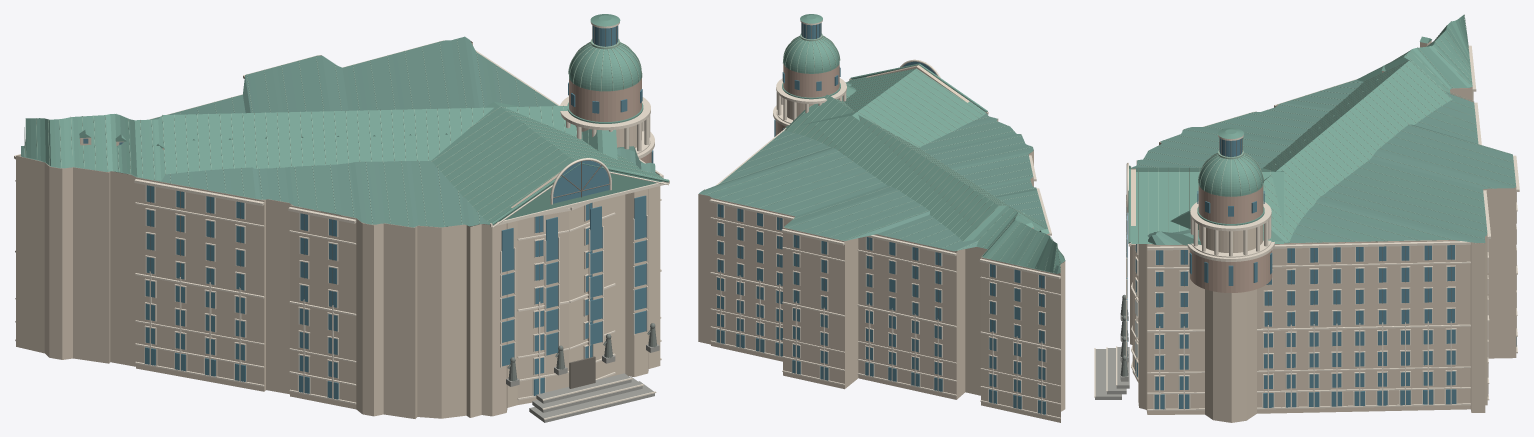
The model's file is mannerheimintie-5.glb.
The picture shows the model from 3 angles, left to right: view 1: azimuth 30°, elevation 25°; view 2: azimuth 150°, elevation 25°; view 3: azimuth 270°, elevation 25°; orthographic projection. The views are drawn at different scales.
Parts seen in each view (by area): view 1: Building envelope | Helsinki WFS footprint, Roof | low pitched copper fill beneath raised wings, Roof | long Mannerheimintie wing | fitted gable, Windows | deep blue-grey glass, Cornices and columns | pale limestone, Roof | Ylioppilasaukio wing | perpendicular gable, Plinth and steps | grey granite, Cupola | documented 4.3 m hemisphere, Cupola | neck, Gable | arched fanlight glass, Window framing | dark bronze, Cupola colonnade | capital ring; view 2: Building envelope | Helsinki WFS footprint, Roof | low pitched copper fill beneath raised wings, Roof | long Mannerheimintie wing | fitted gable, Cornices and columns | pale limestone, Windows | deep blue-grey glass, Roof | Ylioppilasaukio wing | perpendicular gable, Cupola | documented 4.3 m hemisphere, Cupola | neck, Cupola colonnade | capital ring, Window framing | dark bronze, Square elevation | broad cream gable; view 3: Building envelope | Helsinki WFS footprint, Roof | low pitched copper fill beneath raised wings, Roof | long Mannerheimintie wing | fitted gable, Cornices and columns | pale limestone, Windows | deep blue-grey glass, Roof | Ylioppilasaukio wing | perpendicular gable, Corner tower | projecting drum, Cupola | documented 4.3 m hemisphere, Cupola | neck, Plinth and steps | grey granite, Cupola | drum behind columns, Cupola colonnade | capital ring (+2 smaller).
Boxes of the visible parts, x1,y1,x2,y2 form: Building envelope | Helsinki WFS footprint: [16, 41, 660, 418]; Roof | low pitched copper fill beneath raised wings: [21, 36, 655, 227]; Roof | long Mannerheimintie wing | fitted gable: [25, 106, 617, 180]; Windows | deep blue-grey glass: [83, 82, 653, 399]; Cornices and columns | pale limestone: [14, 40, 669, 419]; Roof | Ylioppilasaukio wing | perpendicular gable: [431, 101, 663, 223]; Plinth and steps | grey granite: [506, 344, 659, 422]; Cupola | documented 4.3 m hemisphere: [569, 43, 641, 91]; Cupola | neck: [569, 78, 641, 121]; Gable | arched fanlight glass: [553, 160, 609, 203]; Window framing | dark bronze: [150, 186, 595, 388]; Cupola colonnade | capital ring: [560, 96, 650, 130]; Building envelope | Helsinki WFS footprint: [698, 119, 1065, 422]; Roof | low pitched copper fill beneath raised wings: [699, 82, 1064, 273]; Roof | long Mannerheimintie wing | fitted gable: [785, 84, 1064, 272]; Cornices and columns | pale limestone: [709, 78, 1060, 418]; Windows | deep blue-grey glass: [716, 67, 1045, 414]; Roof | Ylioppilasaukio wing | perpendicular gable: [784, 68, 985, 147]; Cupola | documented 4.3 m hemisphere: [783, 36, 839, 73]; Cupola | neck: [783, 63, 839, 97]; Cupola colonnade | capital ring: [776, 78, 846, 103]; Window framing | dark bronze: [720, 205, 1041, 341]; Square elevation | broad cream gable: [866, 65, 969, 102]; Building envelope | Helsinki WFS footprint: [1130, 87, 1516, 422]; Roof | low pitched copper fill beneath raised wings: [1132, 79, 1515, 245]; Roof | long Mannerheimintie wing | fitted gable: [1170, 15, 1472, 242]; Cornices and columns | pale limestone: [1094, 45, 1519, 410]; Windows | deep blue-grey glass: [1126, 191, 1516, 409]; Roof | Ylioppilasaukio wing | perpendicular gable: [1131, 167, 1283, 243]; Corner tower | projecting drum: [1190, 250, 1272, 292]; Cupola | documented 4.3 m hemisphere: [1198, 153, 1263, 196]; Cupola | neck: [1198, 185, 1263, 223]; Plinth and steps | grey granite: [1095, 315, 1129, 399]; Cupola | drum behind columns: [1198, 225, 1263, 252]; Cupola colonnade | capital ring: [1190, 201, 1271, 231].
Size of the model in its own units: 67.77 by 40.93 by 56.37.
